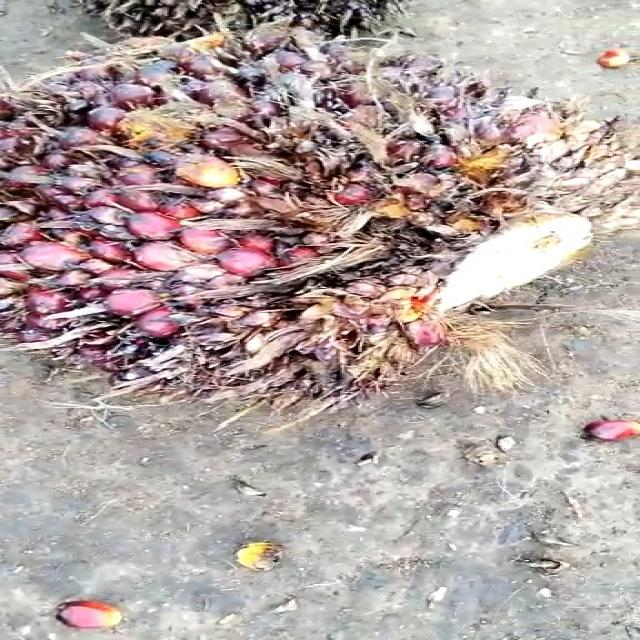palm oil: (0, 31, 640, 408)
